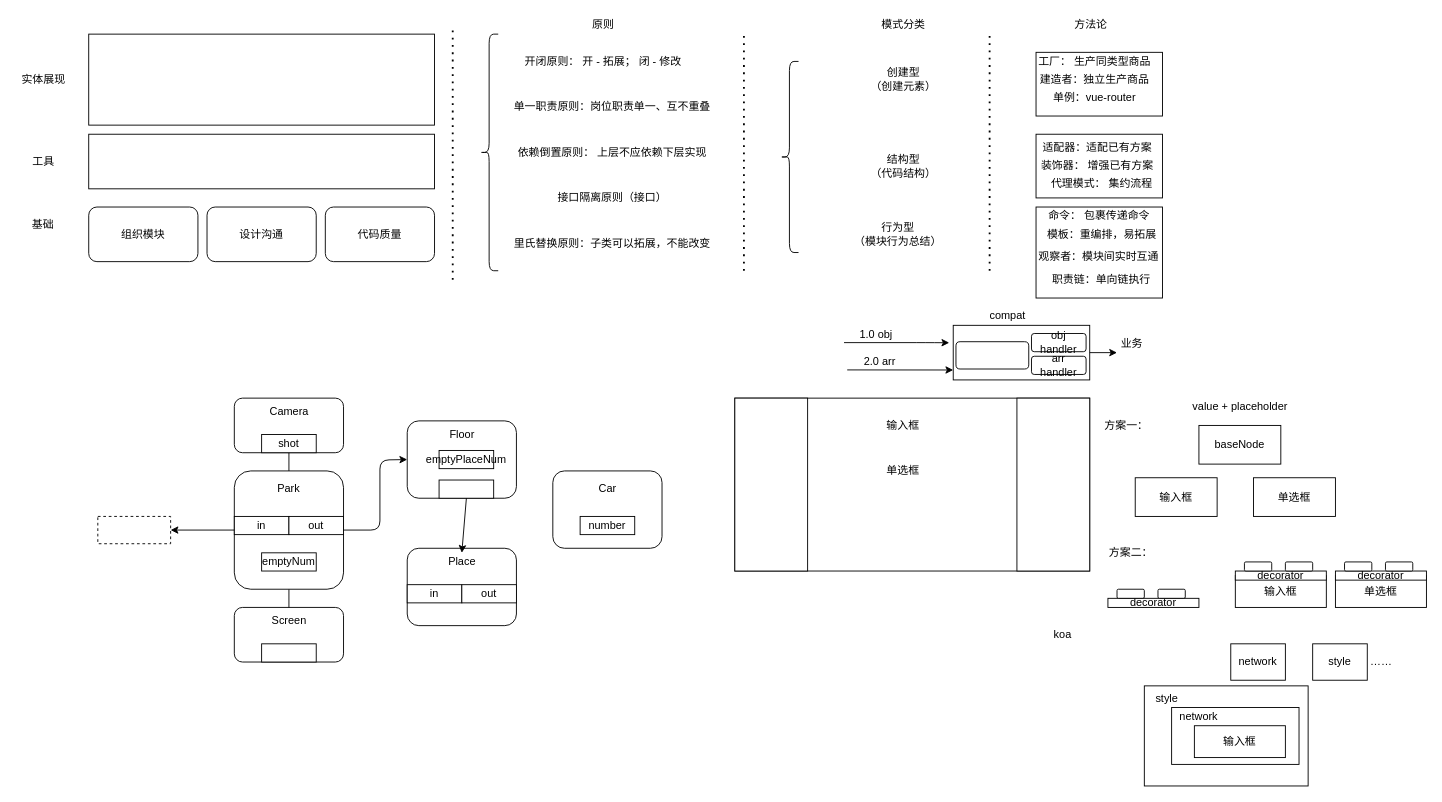
The diagram is 1442 pixels wide and 802 high, and some of its shapes have lost their labels. The shapes that lost their labels are listed below. From the top down, each one's centre as x and y in pixels, then its label:
point 261,79: 系统本身
point 261,161: 设计模式
point 992,355: versionHelper
point 466,488: index
point 134,530: carList
point 288,652: show
